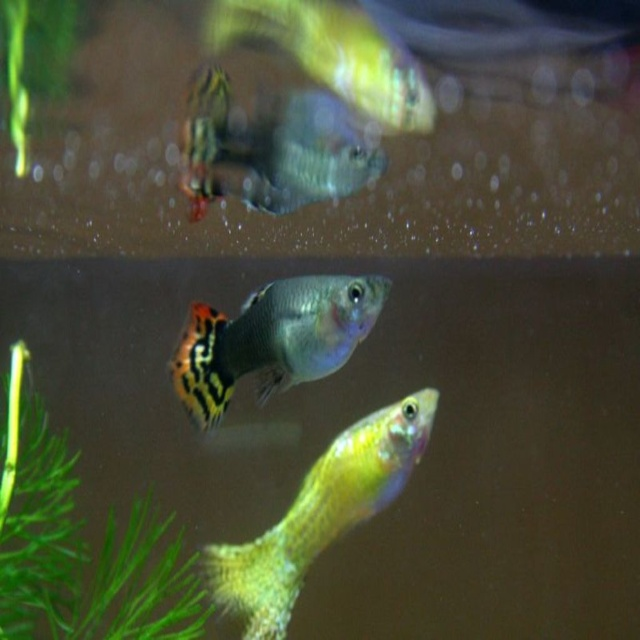Fish: (197, 385, 438, 639), (176, 268, 397, 437), (174, 64, 385, 227)
